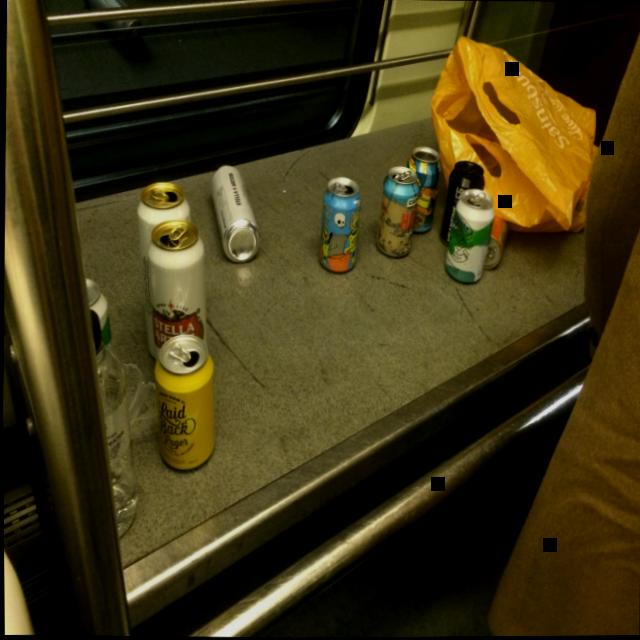Clear plastic bottle: (88, 307, 136, 536)
Drink can: (135, 181, 189, 357), (145, 219, 205, 357), (152, 333, 212, 469), (209, 165, 258, 263), (443, 188, 493, 282), (374, 165, 418, 256), (317, 176, 359, 271), (437, 160, 483, 245), (405, 146, 440, 232), (83, 275, 111, 347), (481, 215, 507, 268)
Pop tab: (167, 340, 189, 361), (167, 222, 186, 239), (149, 188, 168, 199), (470, 191, 484, 204), (396, 170, 410, 179), (484, 246, 493, 259), (332, 182, 346, 190)
Single-use carrier bag: (429, 35, 597, 232)
